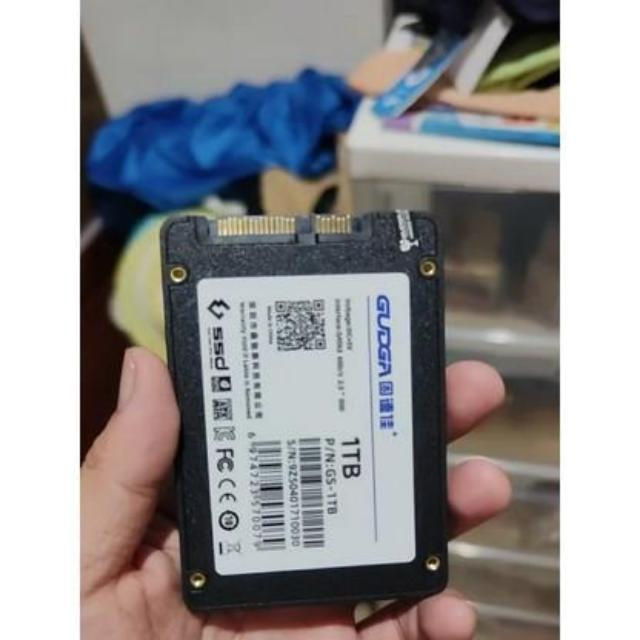DISK: (152, 200, 458, 609)
